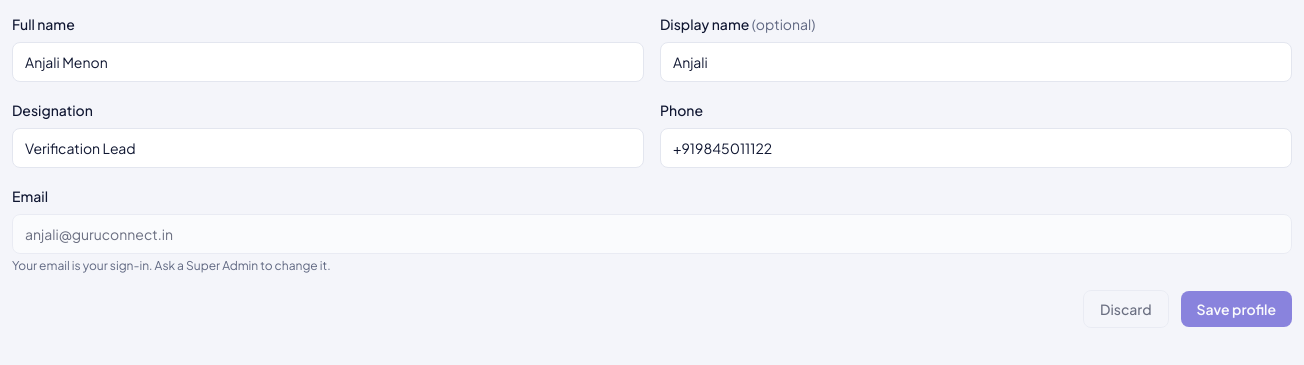
it: ProfileForm › rejects Display name (optional) “A” before sending anything
This screenshot has width=1304, height=365.
Step 1. Replace the text in the field labelled "Display name (optional)" with "A" → (976, 62), box left=660, top=42, right=1292, bottom=82
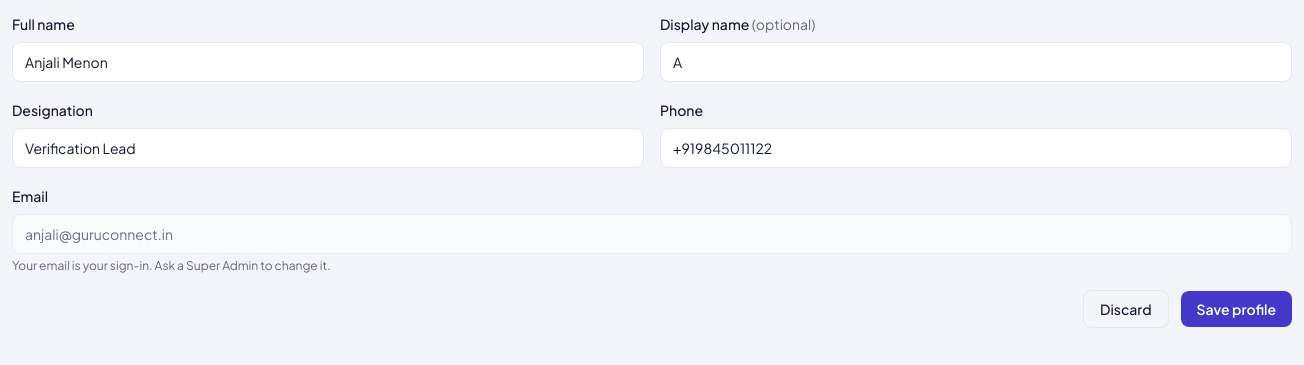
Step 2. Click the button "Save profile" → (1236, 309), box left=1181, top=291, right=1292, bottom=327
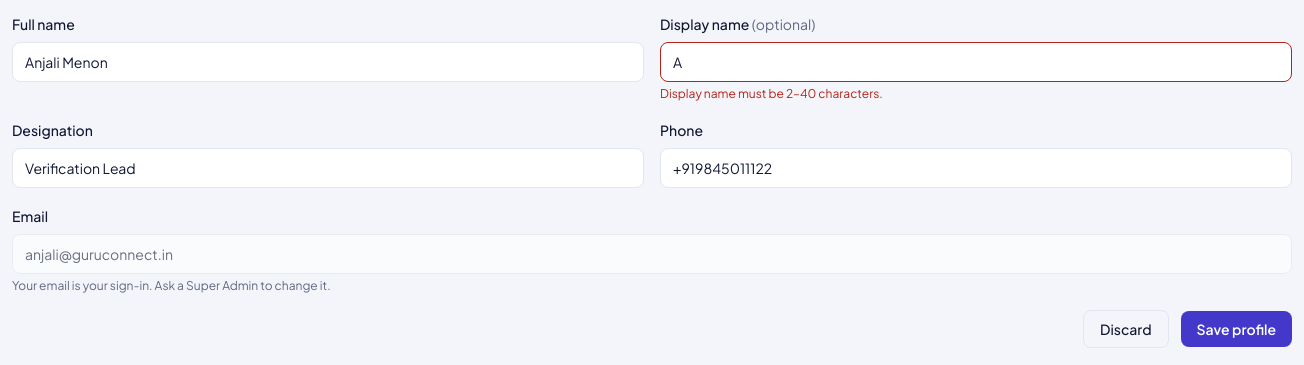
Expected: the text "Display name must be 2–40 characters." is shown, left=660, top=86, right=883, bottom=101
